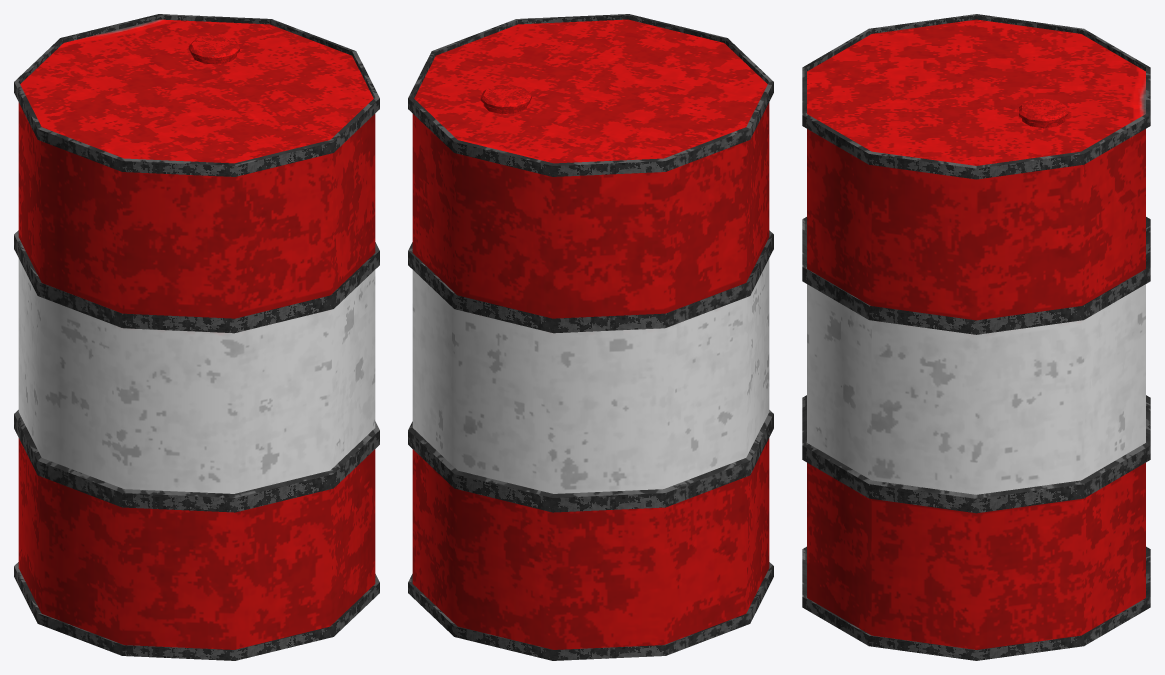
The model's file is RedBarrel.fbx.
3 renders of one model, left to right at view 1: azimuth 30°, elevation 25°; view 2: azimuth 150°, elevation 25°; view 3: azimuth 270°, elevation 25°, orthographic.
Visible parts, largest first — view 1: Cylinder, Cylinder_2; view 2: Cylinder, Cylinder_2; view 3: Cylinder, Cylinder_2.
Part boxes in pixels (bbox=[...]): Cylinder: bbox=[14, 14, 379, 660]; Cylinder_2: bbox=[188, 35, 239, 64]; Cylinder: bbox=[408, 14, 773, 660]; Cylinder_2: bbox=[480, 84, 531, 114]; Cylinder: bbox=[802, 14, 1150, 660]; Cylinder_2: bbox=[1019, 98, 1067, 128].
Size of the model in its own units: 197 by 298 by 187.
